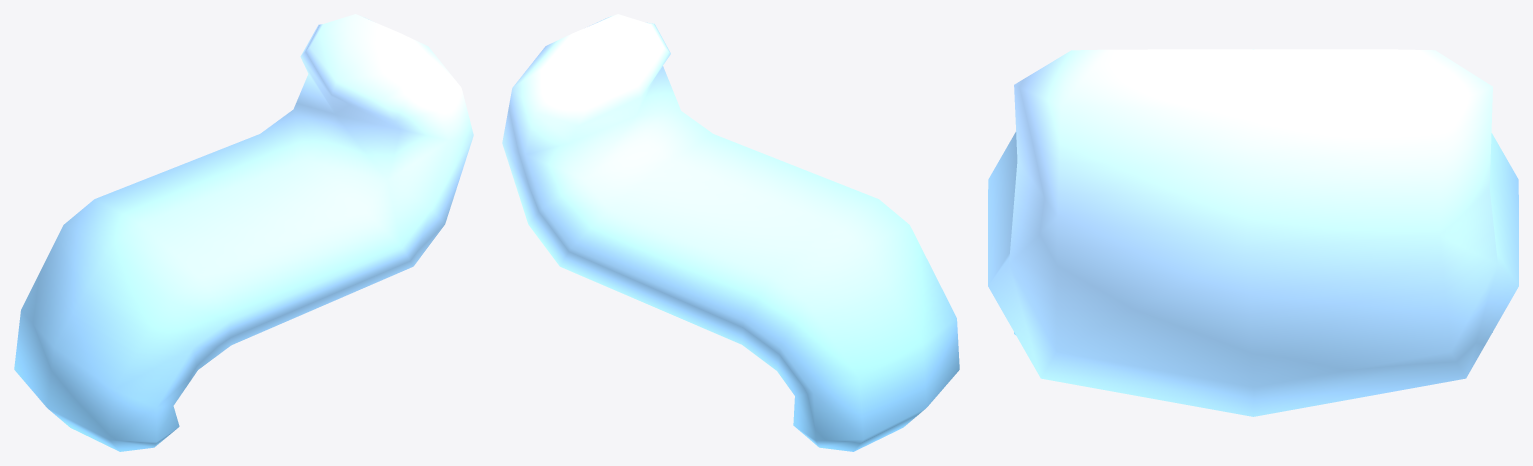
Rendered from steel_guard_044.glb.
The picture shows the model from 3 angles, left to right: view 1: azimuth 30°, elevation 25°; view 2: azimuth 150°, elevation 25°; view 3: azimuth 270°, elevation 25°; orthographic projection. The views are drawn at different scales.
Visible parts, largest first — view 1: steel_guard_044; view 2: steel_guard_044; view 3: steel_guard_044.
Part boxes in pixels (<box>): steel_guard_044: <box>14,14,473,451</box>; steel_guard_044: <box>502,14,959,451</box>; steel_guard_044: <box>988,49,1518,416</box>.
Size of the model in its own units: 5.51 by 4.2 by 3.22.
1 material, 1 textured.
